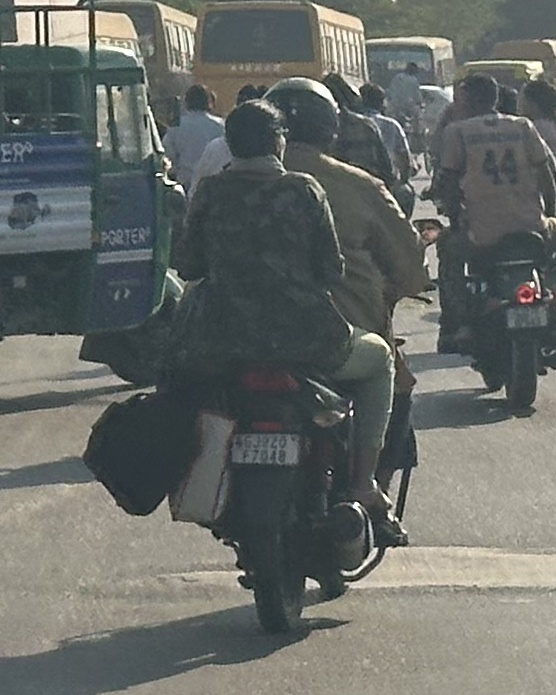BikeWithRider: (154, 78, 432, 636), (430, 72, 556, 417)
Helmet: (261, 76, 347, 157)
NoHelmet: (220, 98, 296, 172), (455, 71, 505, 120)
